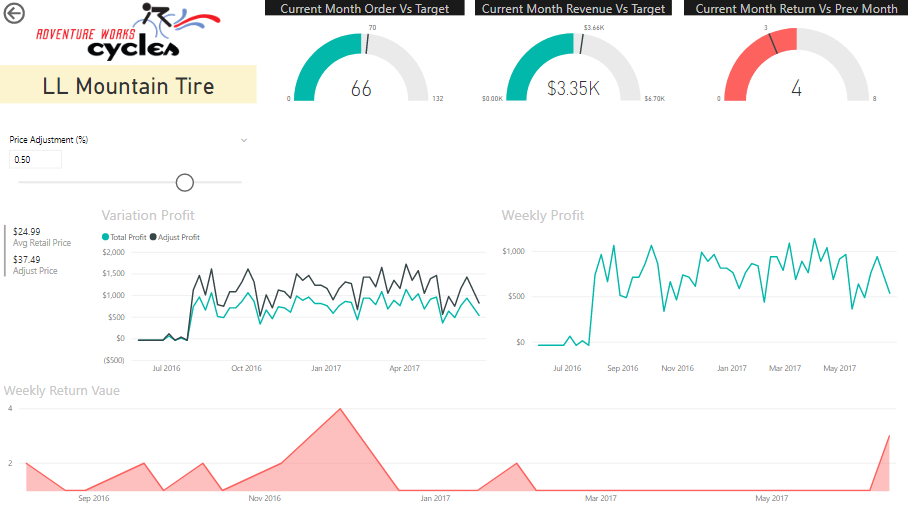

Layout of this report page (visuals, bound fields, positions):
{"tool":"powerbi","page":{"name":"Product Detail","canvas":[1280,720],"ordinal":2},"visuals":[{"type":"areaChart","title":"Weekly Return Vaue","fields":{"Category":["AW_Calendar_Lookup.Start of Week"],"Y":["AW_Returns.Total return"]},"box":[0,537.5,1280,183.1],"z":0},{"type":"image","box":[42,0,278.8,92.4],"z":1000},{"type":"gauge","title":"Current Month Order Vs Target","fields":{"Y":["AW_Sales.Total order"],"TargetValue":["AW_Sales.Target Order"]},"box":[372.9,0,280.5,152.9],"z":2000},{"type":"gauge","title":"Current Month Revenue Vs Target","fields":{"TargetValue":["AW_Sales.Revenue Target"],"Y":["AW_Sales.Total Revenue"]},"box":[668.6,0,277.2,152.9],"z":3000},{"type":"gauge","title":"Current Month Return Vs Prev Month","fields":{"Y":["AW_Returns.Total return"],"TargetValue":["AW_Returns.Prev Month Return"]},"box":[962.5,0,317.5,152.9],"z":4000},{"type":"card","fields":{"Values":["Min(AW_Product_Lookup.ProductName)"]},"box":[0,92.4,361.2,53.8],"z":5000},{"type":"actionButton","box":[0,0,100,40],"z":6000},{"type":"slicer","fields":{"Values":["Price Adjustment (%).Price Adjustment (%)"]},"box":[0,184.8,361.2,104.1],"z":7000},{"type":"multiRowCard","fields":{"Values":["AW_Product_Lookup.Avg Retail Price","AW_Product_Lookup.Adjust Price"]},"box":[0,312.4,137.7,124.3],"z":8000},{"type":"lineChart","title":"Variation Profit","fields":{"Y":["AW_Sales.Total Profit","AW_Sales.Adjust Profit"],"Category":["AW_Calendar_Lookup.Start of Week"]},"box":[137.7,288.9,562.7,248.6],"z":9000},{"type":"lineChart","title":"Weekly Profit","fields":{"Category":["AW_Calendar_Lookup.Start of Week"],"Y":["AW_Sales.Total Profit"]},"box":[700.5,288.9,579.5,248.6],"z":10000}]}

Visuals, with their boxes in screenshot pixels (x1, y1, x2, y2), scaled from the page's 1280x720 canvas onto the 908x508 screenshot:
"Weekly Return Vaue" areaChart: [0,379,907,507]
image: [30,0,228,65]
"Current Month Order Vs Target" gauge: [265,0,464,108]
"Current Month Revenue Vs Target" gauge: [474,0,671,108]
"Current Month Return Vs Prev Month" gauge: [683,0,907,108]
card - Min(AW_Product_Lookup.ProductName): [0,65,256,103]
actionButton: [0,0,71,28]
slicer - Price Adjustment (%).Price Adjustment (%): [0,130,256,204]
multiRowCard - AW_Product_Lookup.Avg Retail Price x AW_Product_Lookup.Adjust Price: [0,220,98,308]
"Variation Profit" lineChart: [98,204,497,379]
"Weekly Profit" lineChart: [497,204,907,379]
